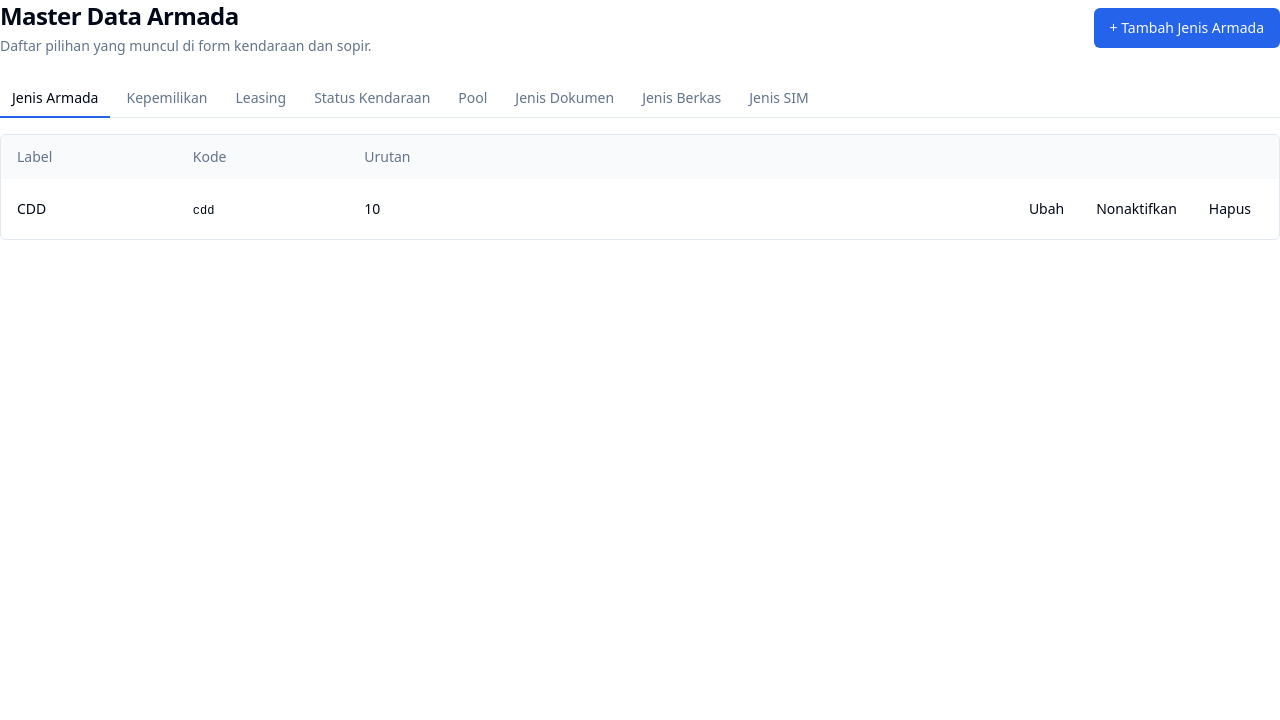
FleetMasterDataPage › falls back to a generic delete message when the failure carries no body
The width and height of the screenshot is (1280, 720).
Click the button "Hapus".
click(1230, 209)  # box [1197,191,1263,227]
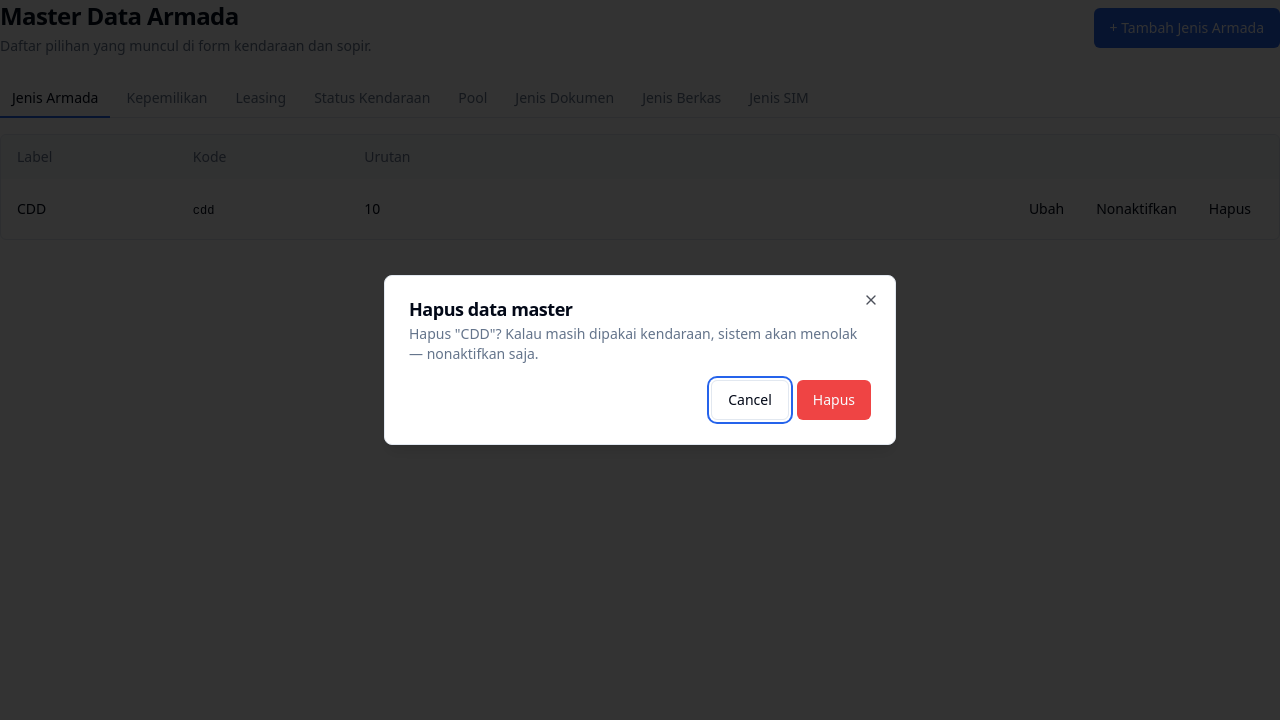
Click the button "Hapus".
click(834, 400)  # box [797,380,871,420]
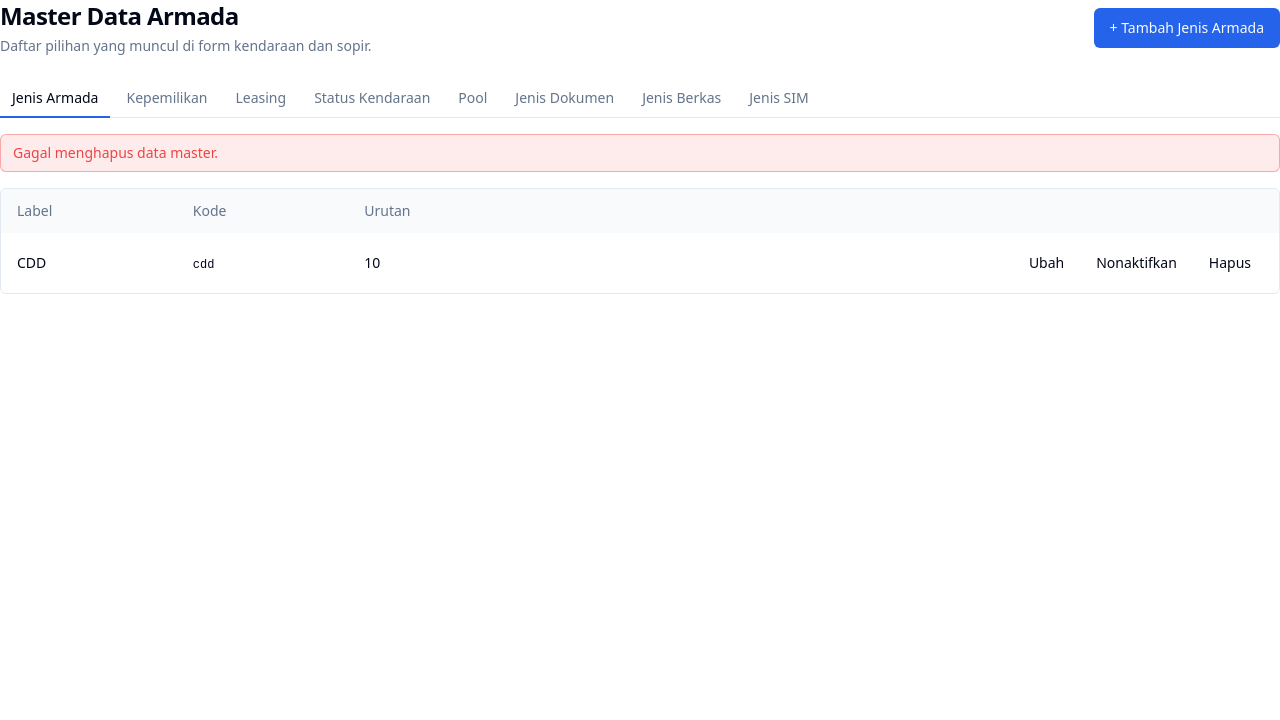
Expected: the text "Gagal menghapus data master." is shown, [0,134,1279,172]
